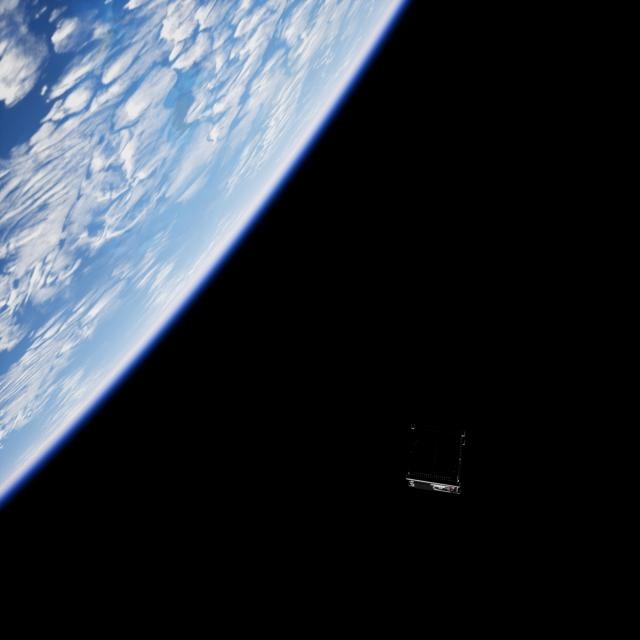satellite: (400, 414, 471, 505)
